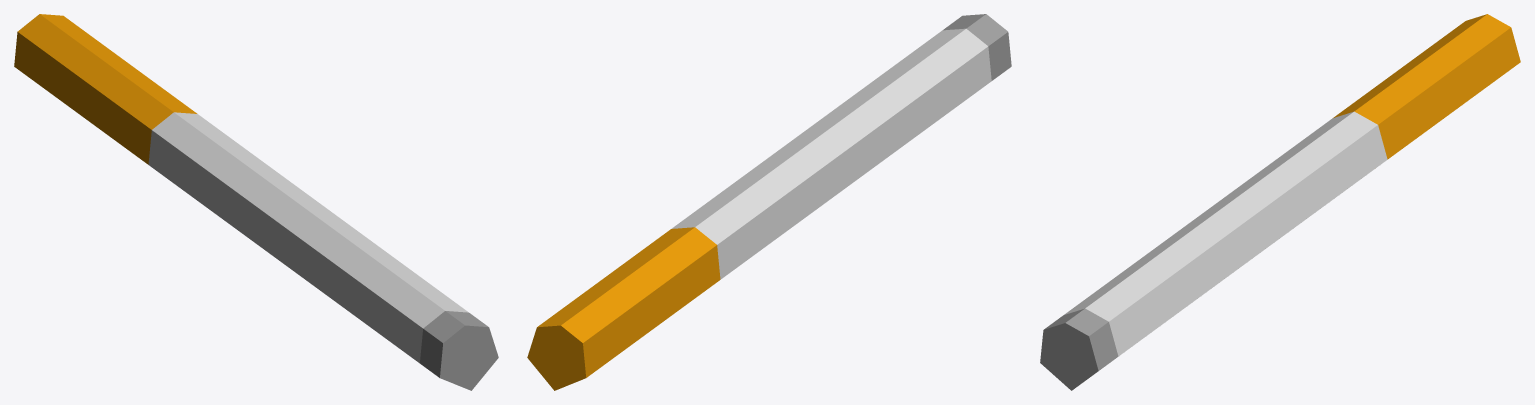
The model's file is cigaret.glb.
3 renders of one model, left to right at view 1: azimuth 30°, elevation 25°; view 2: azimuth 150°, elevation 25°; view 3: azimuth 330°, elevation 25°, orthographic.
Parts seen in each view (by area): view 1: Cylinder; view 2: Cylinder; view 3: Cylinder.
Part boxes in pixels (left/top/right/bottom): Cylinder: left=14, top=14, right=498, bottom=390; Cylinder: left=527, top=14, right=1011, bottom=390; Cylinder: left=1040, top=14, right=1520, bottom=390.
Size of the model in its own units: 0.0311 by 0.0338 by 0.389.
